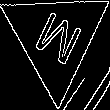M_SW: (28, 5, 84, 71)
